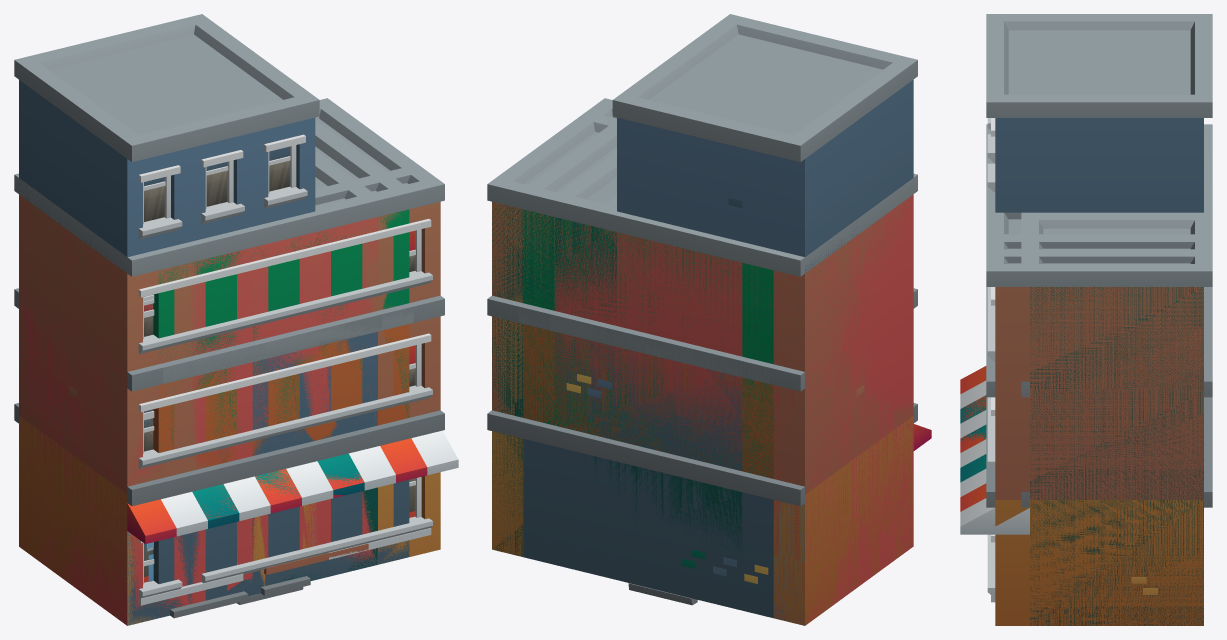
Rendered from kaykit-city.glb.
The picture shows the model from 3 angles, left to right: view 1: azimuth 30°, elevation 25°; view 2: azimuth 150°, elevation 25°; view 3: azimuth 270°, elevation 25°; orthographic projection. The views are drawn at different scales.
Visible parts, largest first — view 1: building_E, building_H, building_F, building_B, building_C, building_D, building_A, building_G; view 2: building_E, building_H, building_F, building_B, building_C, building_D, building_A, building_G; view 3: building_E, building_H, building_G, building_F, building_C, building_D, building_A, building_B.
Boxes of the visible parts, x1,y1,x2,y2 form: building_E: [15, 98, 458, 625]; building_H: [14, 14, 319, 625]; building_F: [14, 102, 444, 625]; building_B: [153, 311, 413, 618]; building_C: [190, 150, 382, 610]; building_D: [153, 120, 413, 575]; building_A: [192, 320, 395, 605]; building_G: [127, 101, 410, 625]; building_E: [487, 98, 931, 625]; building_H: [487, 14, 917, 505]; building_F: [487, 98, 917, 624]; building_B: [518, 308, 773, 618]; building_C: [550, 150, 742, 503]; building_D: [518, 125, 773, 478]; building_A: [550, 314, 742, 568]; building_G: [487, 111, 916, 624]; building_E: [960, 124, 1212, 625]; building_H: [986, 14, 1212, 534]; building_G: [960, 125, 1212, 625]; building_F: [986, 124, 1212, 597]; building_C: [986, 153, 1212, 554]; building_D: [986, 220, 1212, 366]; building_A: [960, 395, 995, 496]; building_B: [987, 403, 1212, 573].
Bounding box in the file's own units: 2.01 × 3.11 × 1.45.
Materials: 17 (17 with a texture image).
